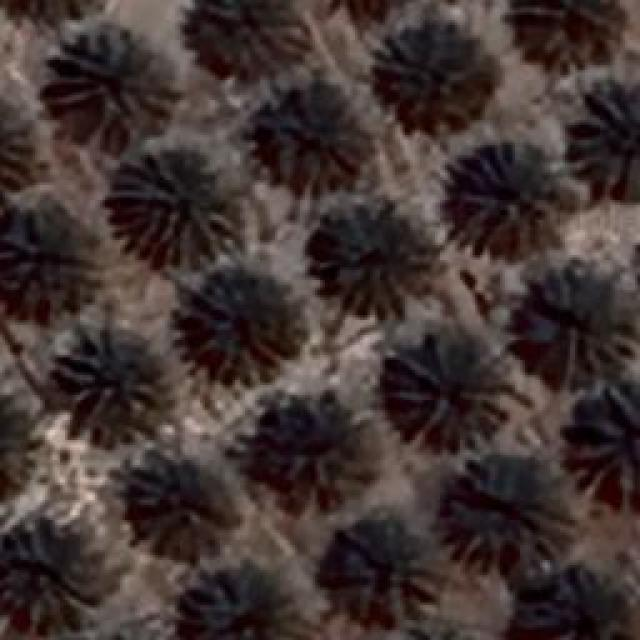PalmTree: (108, 145, 242, 270), (312, 205, 446, 320), (437, 460, 575, 570), (168, 270, 302, 382), (385, 332, 510, 450), (44, 25, 178, 125), (522, 270, 636, 382), (457, 138, 565, 252), (0, 508, 105, 624), (370, 28, 485, 130), (256, 400, 366, 502), (0, 202, 95, 316), (332, 530, 440, 628), (128, 457, 235, 555), (55, 320, 160, 415), (182, 562, 308, 640), (520, 565, 640, 640), (562, 85, 636, 200), (568, 382, 638, 502), (270, 105, 368, 190), (185, 0, 292, 72), (516, 0, 623, 72), (0, 382, 40, 496), (0, 100, 43, 198), (378, 615, 498, 640), (0, 0, 119, 25)
